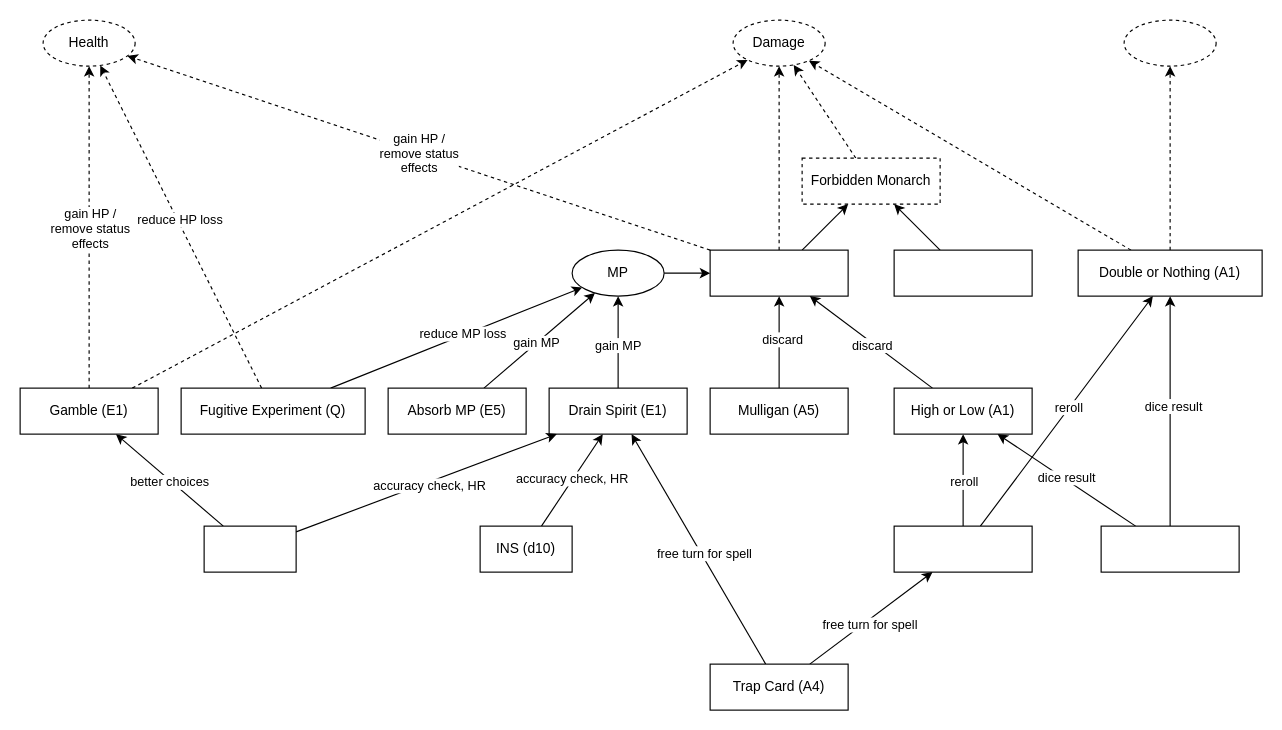
The diagram is 1282 pixels wide and 730 high, and some of its shapes have lost their labels. The centre of each missing label's shape, as x and y in pixels:
"Clock" belongs at (1169,42).
"Divination (E1)" belongs at (962,548).
"Forbidden Rite (H)" belongs at (962,272).
"Lucky Seven (E1)" belongs at (1169,548).
"Magic Cards (A3)" belongs at (778,272).
"WLP (d10)" belongs at (249,548).
